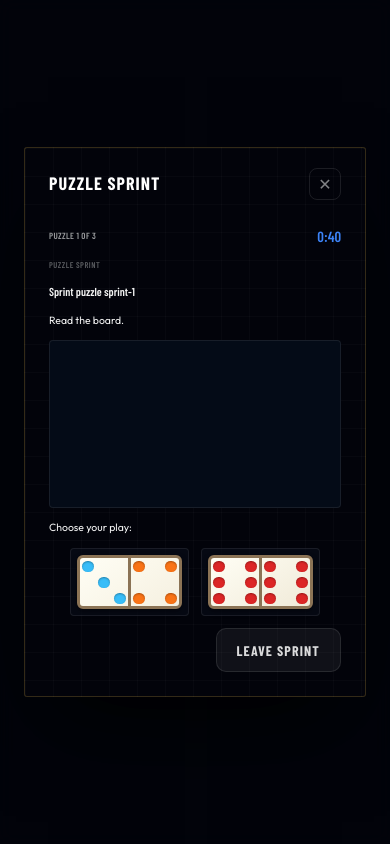
PuzzleSprintModal › advances to the next puzzle after a correct answer and tallies it
The width and height of the screenshot is (390, 844).
Click the button named "Play 3-4": (130, 582) left=70, top=548, right=189, bottom=616
Wait 1000 ms
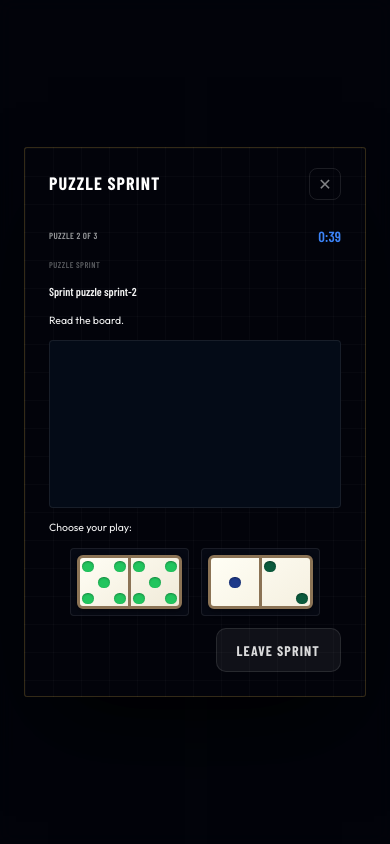
Check: the heading "Sprint puzzle sprint-2" is shown, box left=49, top=284, right=137, bottom=298
